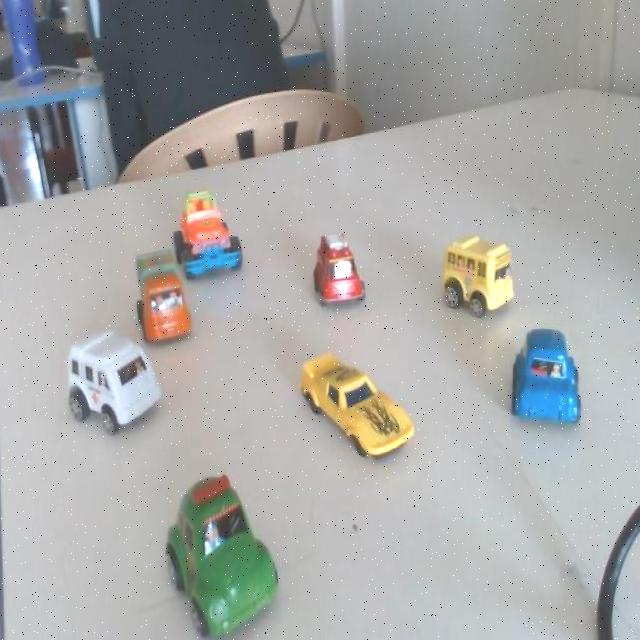car: (128, 466, 304, 640), (58, 310, 178, 458), (292, 348, 420, 466), (430, 234, 514, 329), (508, 332, 586, 434), (177, 179, 254, 279), (131, 240, 195, 353), (302, 225, 367, 318)
